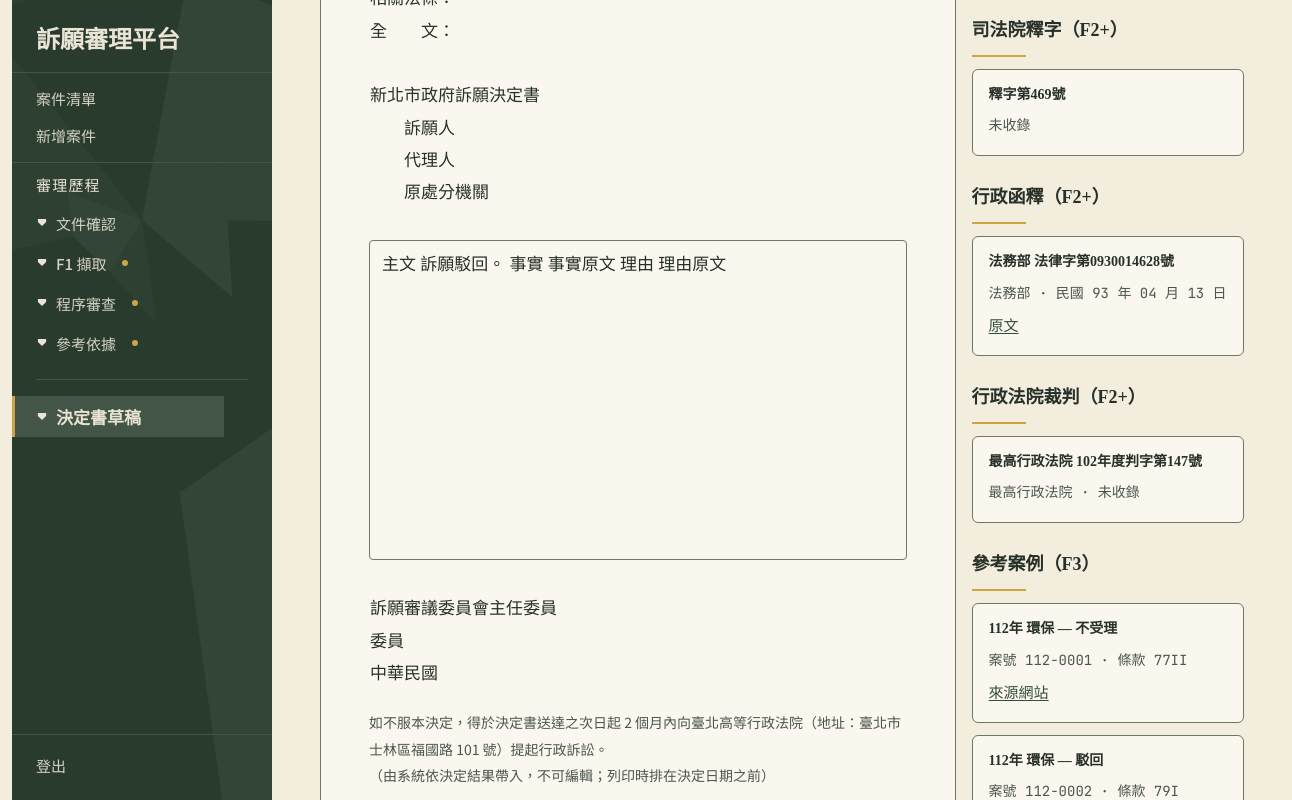
Test case: 案件詳情 › 有未儲存修改時,離開頁面前提示;取消則留在原頁
(page scrolled)
Type " 補充" into the text box named "決定書全文".
click(638, 400); type(" 補充")  # box [369, 240, 907, 560]
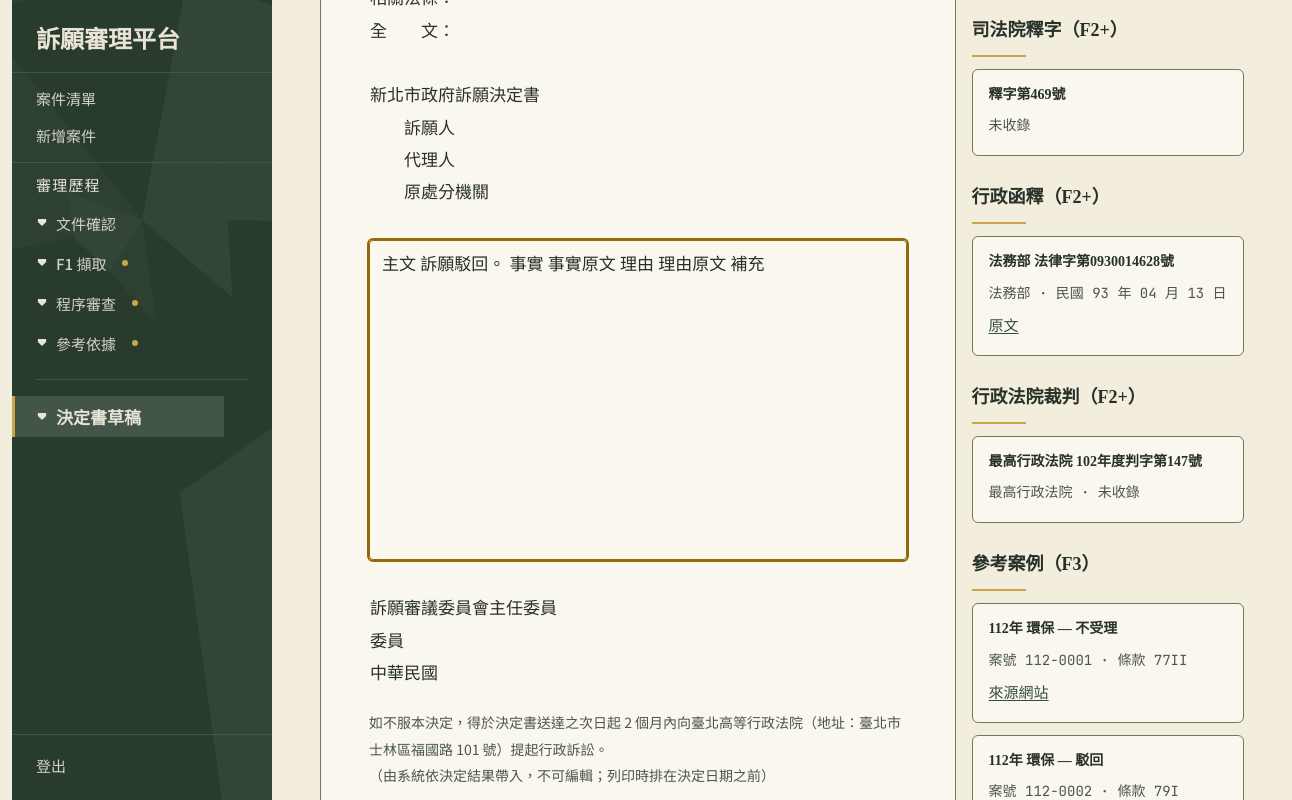
Click the link "案件清單".
click(66, 99)  # box [36, 88, 96, 109]
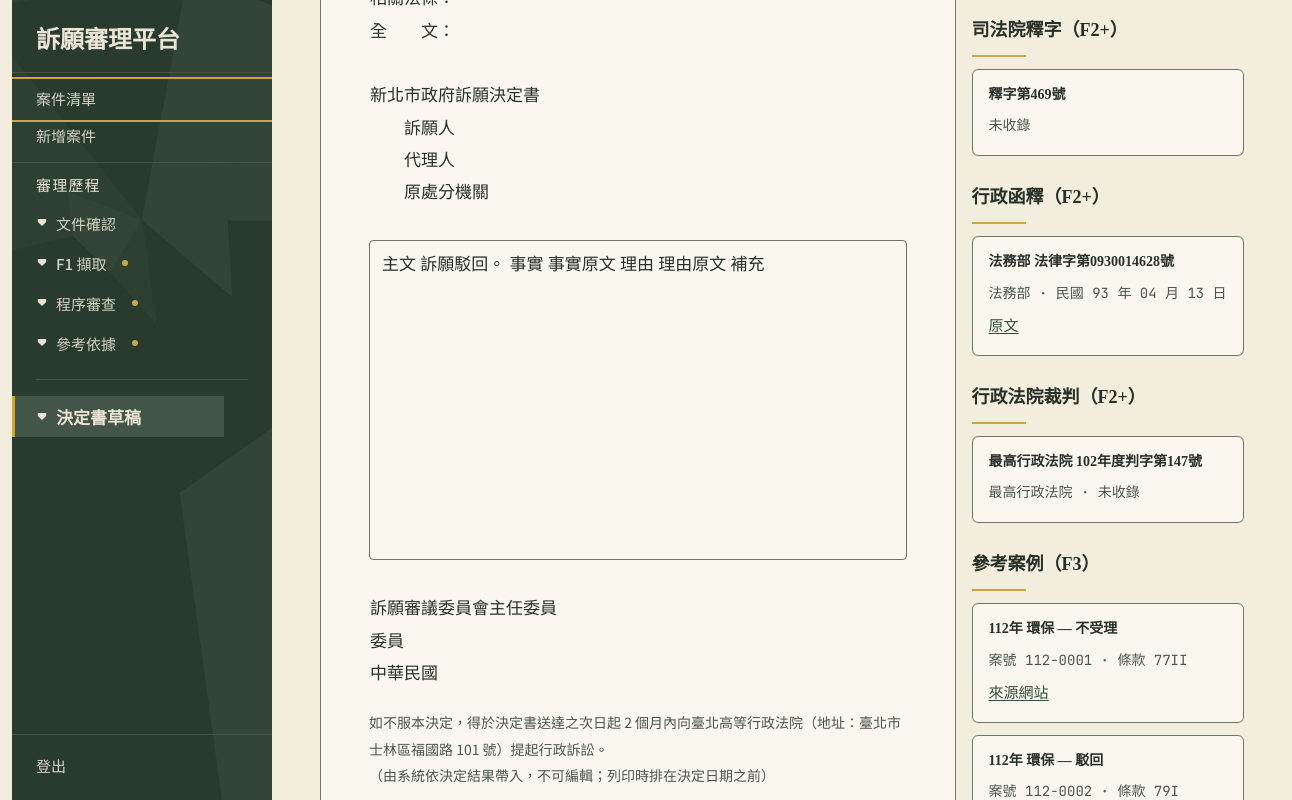
Now the text box named "決定書全文" holds "主文 訴願駁回。 事實 事實原文 理由 理由原文 補充", box [369, 240, 907, 560]
Click the link "案件清單".
click(66, 99)  # box [36, 88, 96, 109]
(page scrolled)
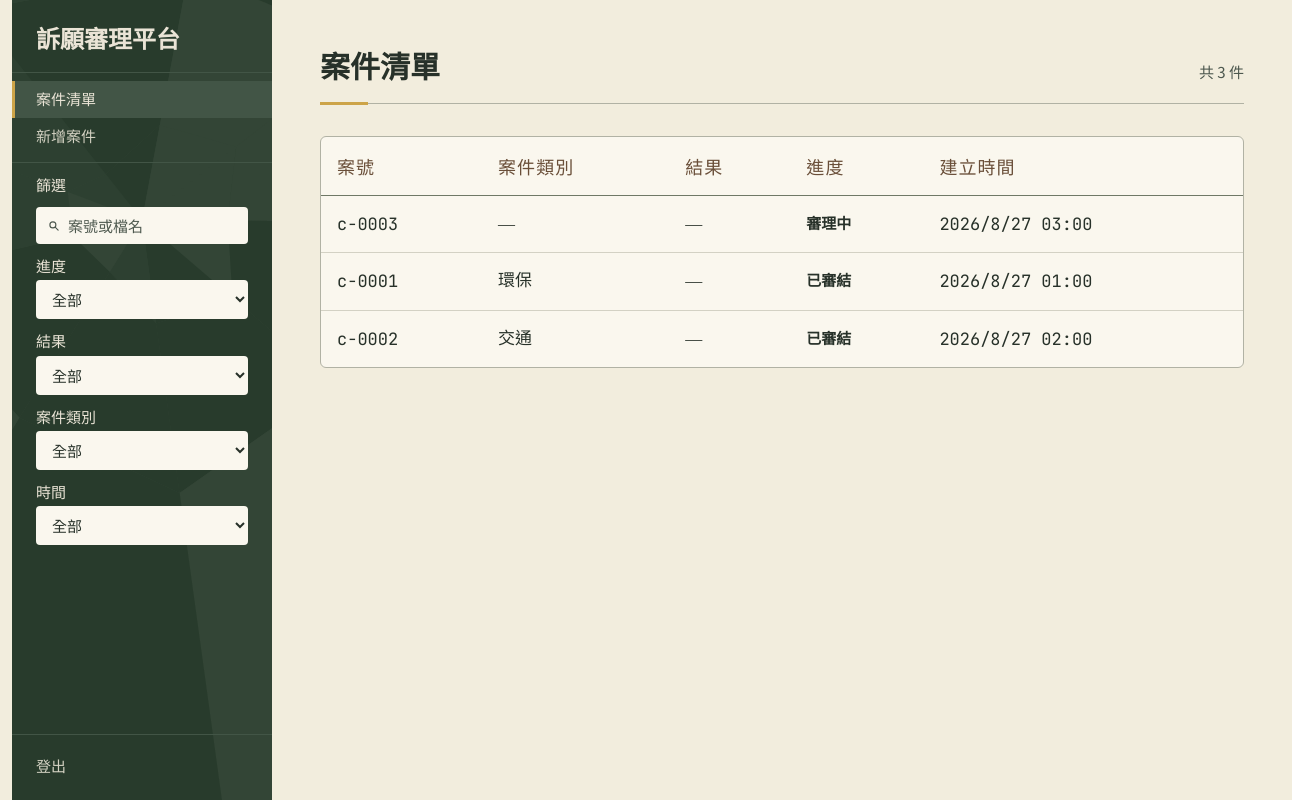
Now the table is shown, box [321, 137, 1243, 367]
